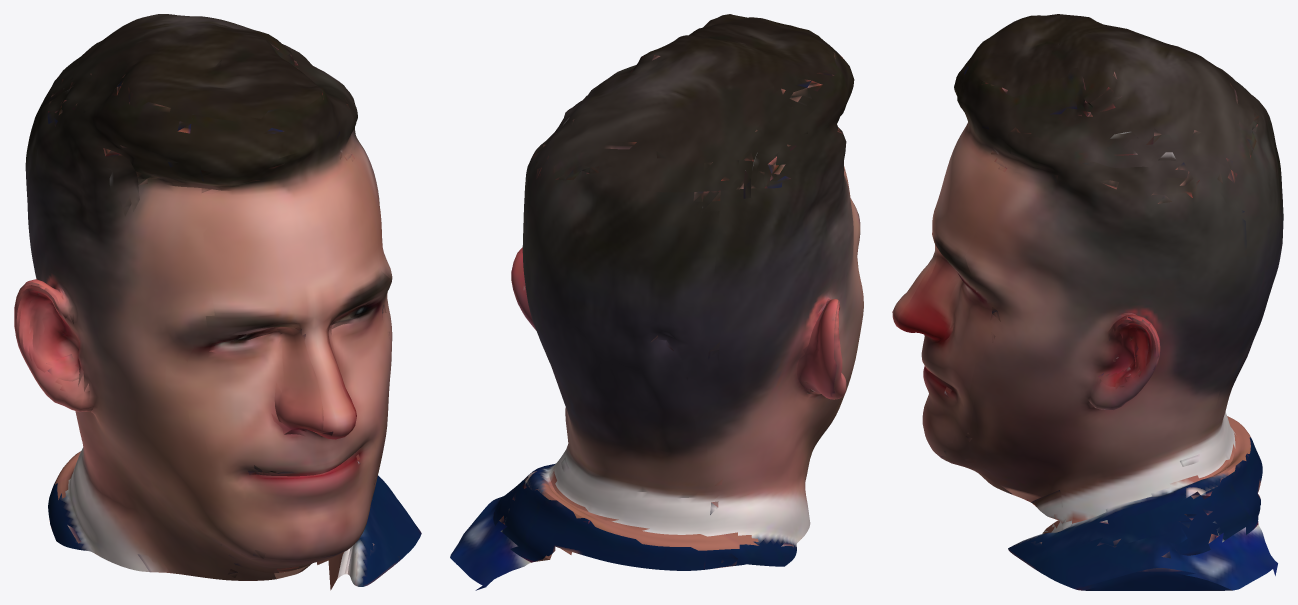
The model's file is Mr_Deschane.glb.
3 views of the same model, side by side, from view 1: azimuth 30°, elevation 25°; view 2: azimuth 150°, elevation 25°; view 3: azimuth 270°, elevation 25° (orthographic). The views are drawn at different scales.
Parts seen in each view (by area): view 1: Mr.Deschane; view 2: Mr.Deschane; view 3: Mr.Deschane.
Part boxes in pixels (x1,y1,x2,y2): Mr.Deschane: (14,14,421,590); Mr.Deschane: (450,14,863,590); Mr.Deschane: (892,14,1283,590).
Bounding box in the file's own units: 4.74 × 6.86 × 5.04.
1 material, 1 textured.
